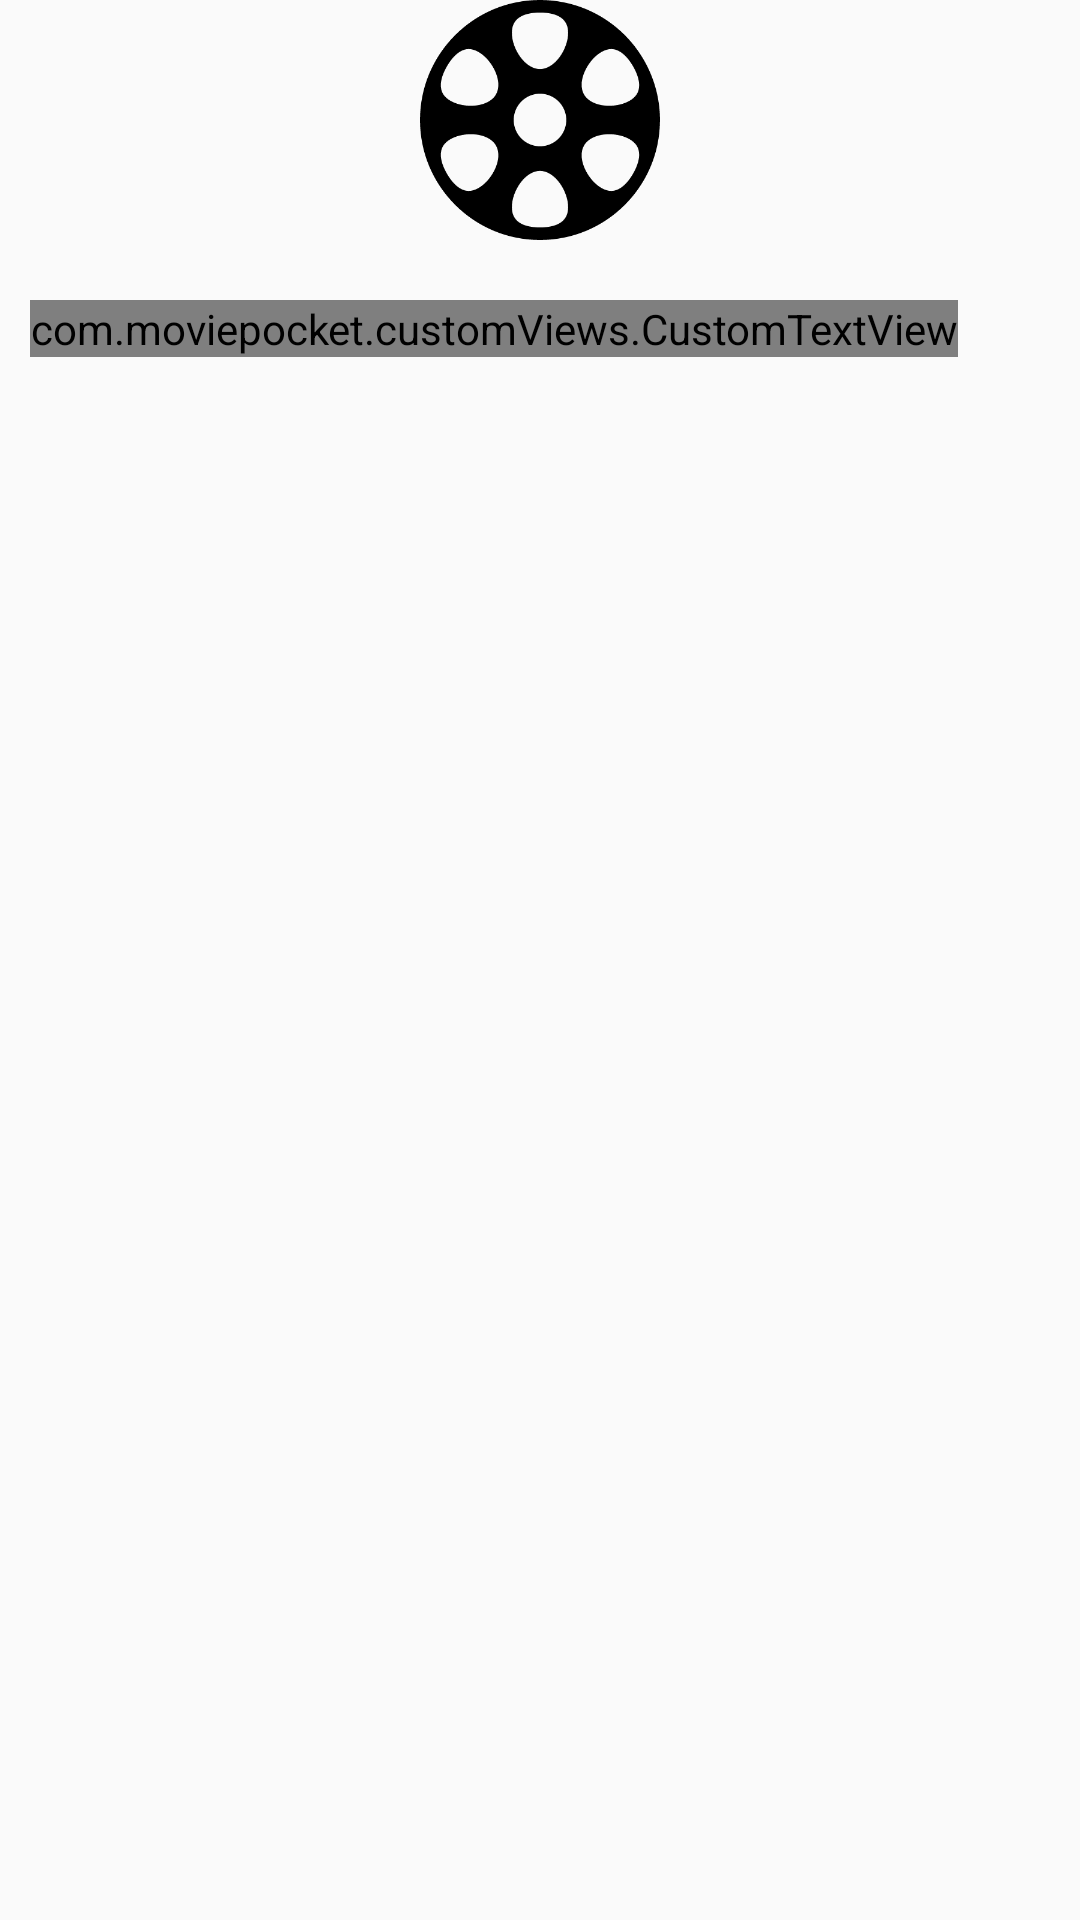

Where icons sit on this 1080w x 1920h app screen, as (x1, y1, x2, y2):
movie loading: (420, 0, 660, 240)
